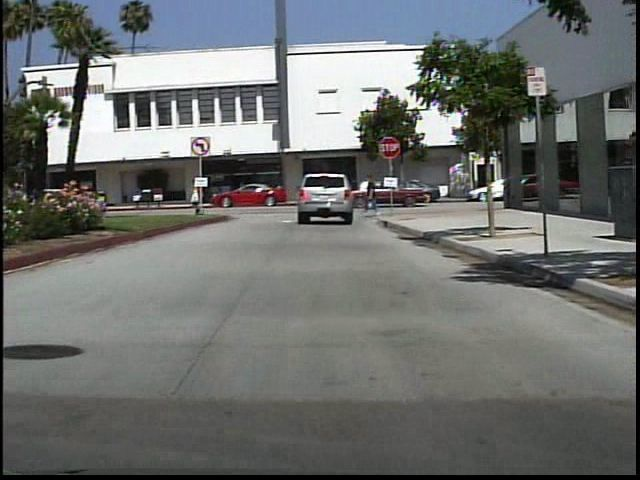person: (183, 176, 212, 218), (361, 174, 386, 218), (235, 178, 252, 202)
